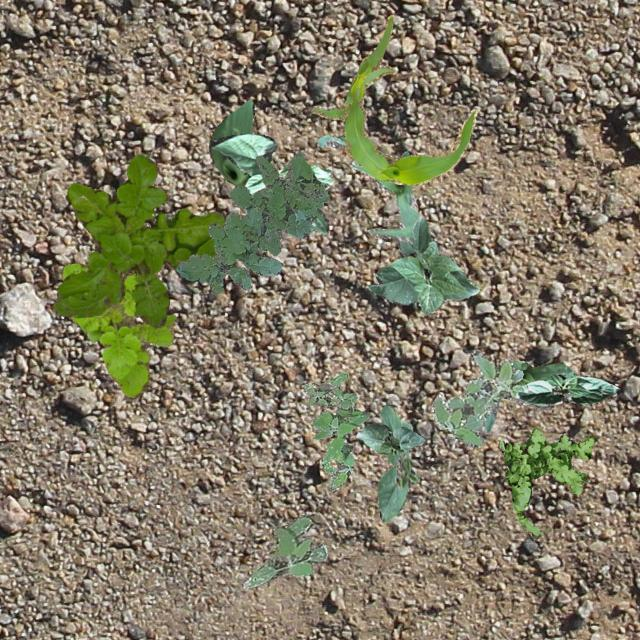crop: (310, 13, 477, 185), (208, 98, 328, 234), (364, 214, 478, 314), (316, 134, 418, 242), (210, 132, 332, 194), (484, 360, 576, 430), (377, 404, 418, 522), (514, 374, 618, 404), (354, 422, 424, 454)
weed: (52, 154, 224, 326), (175, 152, 328, 292), (59, 262, 174, 396), (429, 348, 549, 446), (498, 426, 594, 536), (302, 372, 368, 489), (240, 512, 326, 588)
